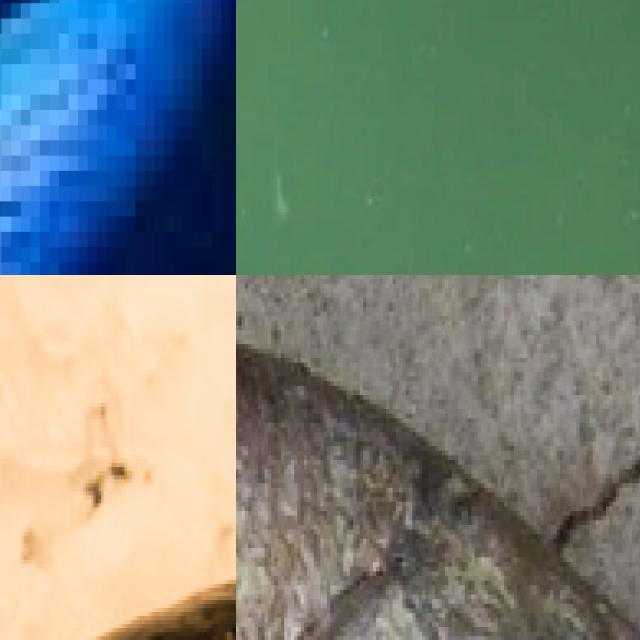fish: (236, 275, 640, 640), (0, 0, 236, 275)
